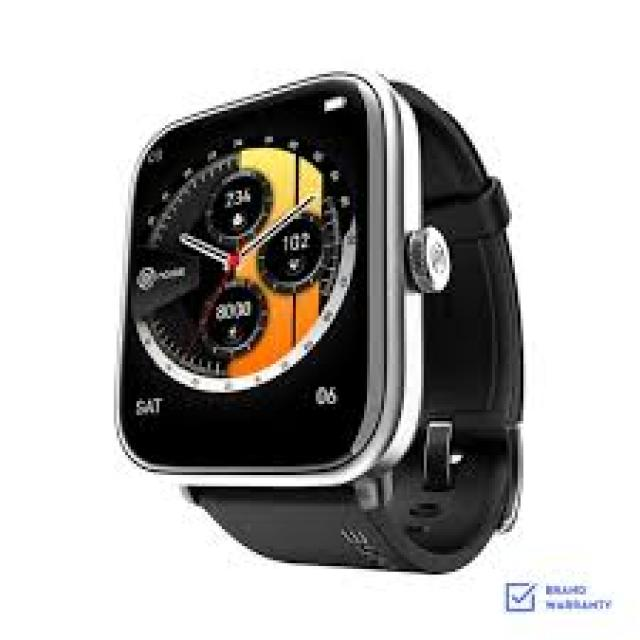objects: (117, 71, 524, 576)
